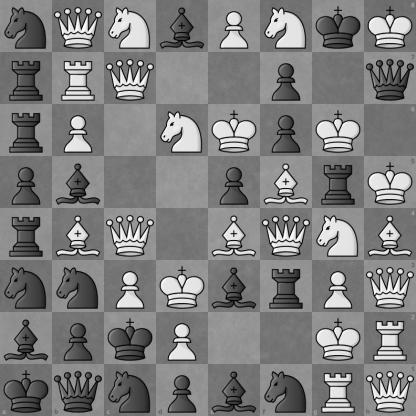B: (364, 209, 416, 260), (53, 209, 104, 260), (209, 209, 260, 260), (261, 157, 312, 208)
K: (364, 156, 416, 209), (364, 0, 416, 52), (157, 261, 208, 312), (209, 105, 260, 156), (313, 105, 364, 156), (313, 313, 364, 364)
N: (105, 1, 156, 52), (157, 105, 208, 156), (261, 1, 312, 52), (313, 209, 364, 260)
P: (53, 105, 104, 156), (105, 261, 156, 312), (157, 313, 208, 364), (209, 1, 260, 52), (313, 261, 364, 312)
Q: (364, 260, 416, 312), (364, 364, 416, 416), (53, 1, 104, 52), (105, 53, 156, 104), (105, 209, 156, 260), (261, 209, 312, 260)
R: (312, 364, 364, 416), (364, 312, 416, 364), (53, 53, 104, 104)
b: (209, 364, 260, 416), (1, 313, 52, 364), (53, 157, 104, 208), (157, 1, 208, 52), (209, 261, 260, 312)
board: (0, 0, 415, 415)
k: (0, 364, 52, 416), (105, 313, 156, 364), (313, 1, 364, 52)
n: (104, 364, 156, 416), (260, 364, 312, 416), (1, 1, 52, 52), (1, 261, 52, 312), (53, 261, 104, 312)
p: (156, 364, 209, 416), (1, 157, 52, 208), (53, 313, 104, 364), (209, 157, 260, 208), (261, 53, 312, 104), (261, 105, 312, 156)
q: (52, 364, 104, 416), (364, 52, 416, 104)
r: (1, 53, 52, 104), (1, 105, 52, 156), (1, 209, 52, 260), (261, 261, 312, 312), (313, 157, 364, 208)
